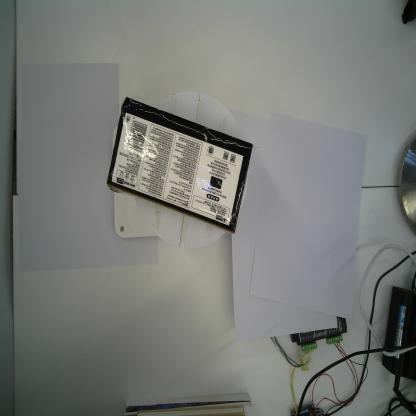Tissue: (107, 96, 253, 233)
